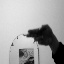h: (25, 20, 56, 47)
